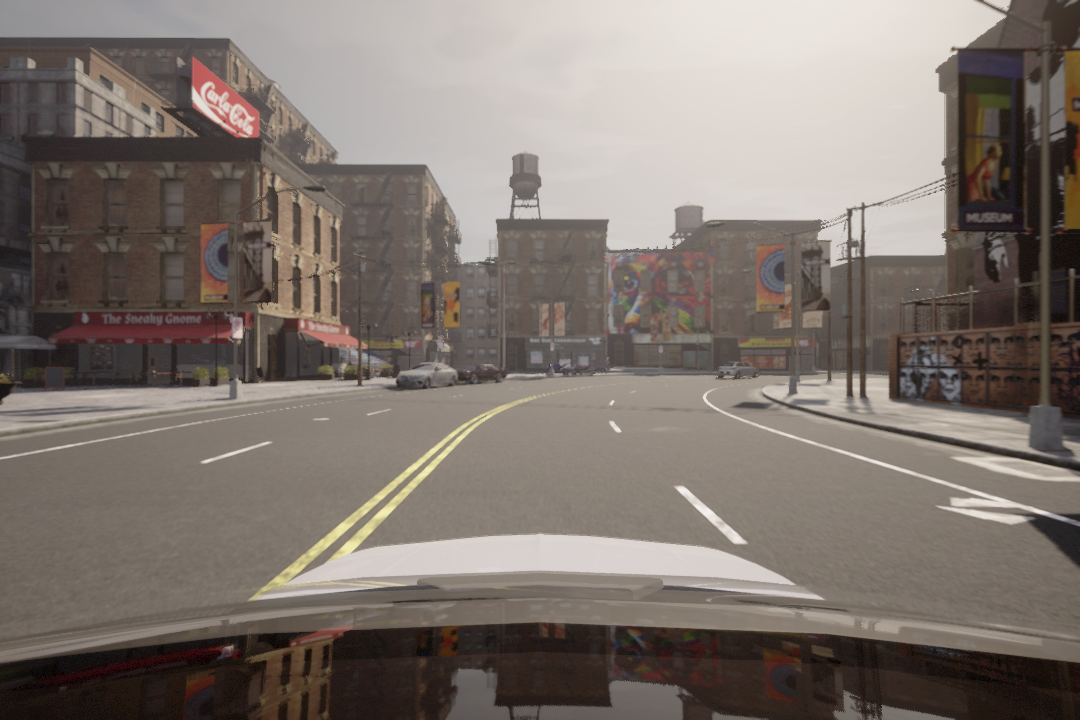TrafficSign_nstop: (232, 318, 243, 339)
